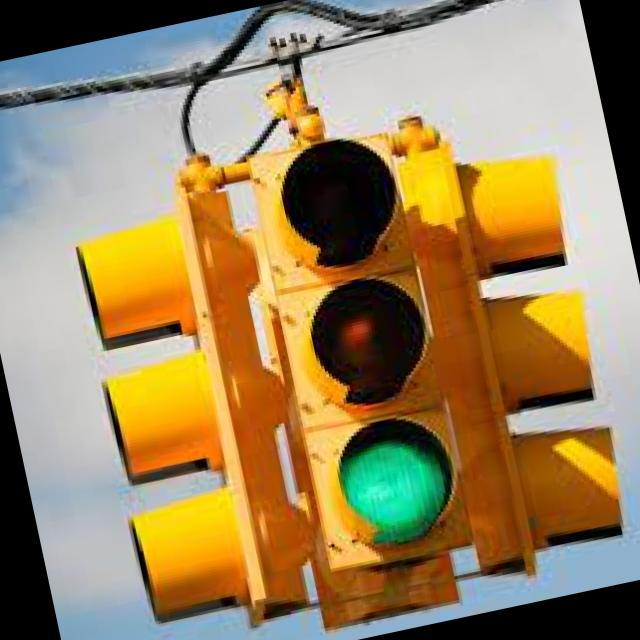green: (214, 102, 510, 607)
